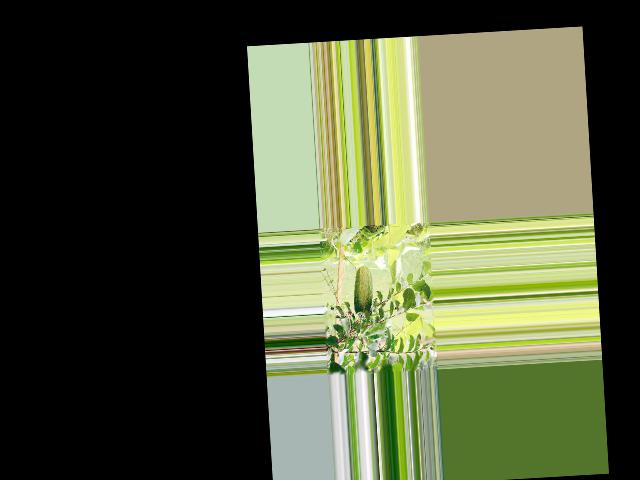cucumber: (351, 265, 374, 319)
